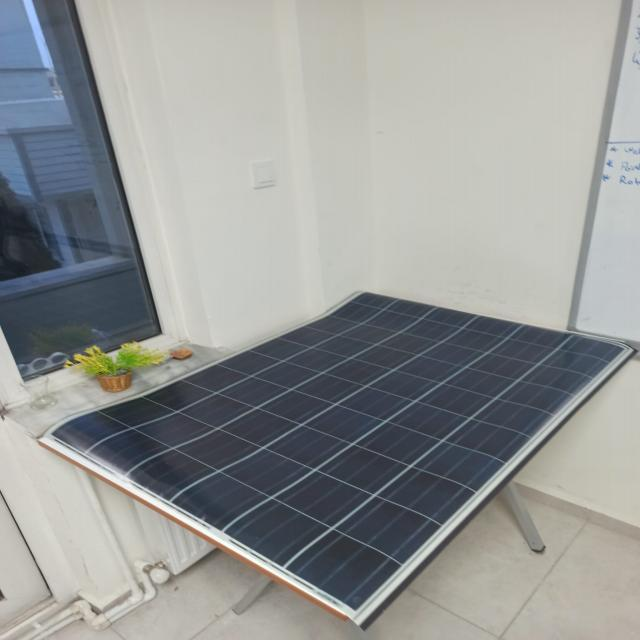no faulty: (42, 290, 640, 624)
